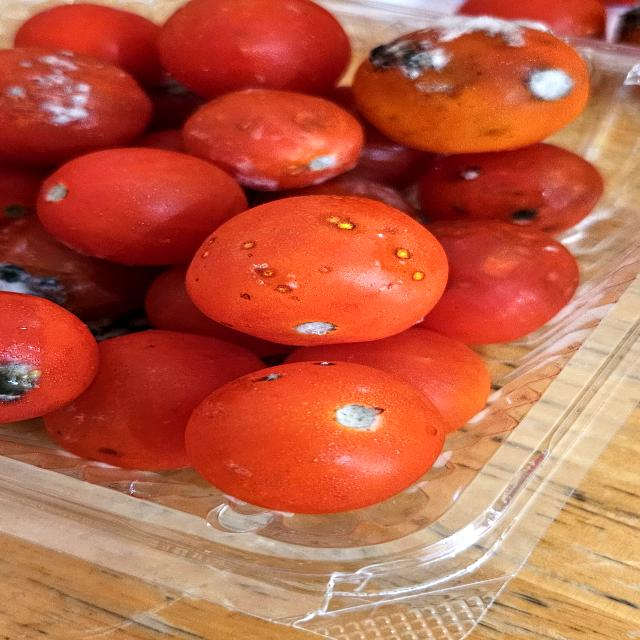rot_lvl1: (316, 212, 367, 235), (236, 239, 264, 254), (253, 265, 279, 279), (392, 246, 414, 262), (271, 281, 295, 294), (410, 270, 427, 284)
rot_lvl2: (401, 16, 528, 50), (366, 40, 458, 80), (521, 67, 579, 103), (330, 403, 384, 430), (293, 320, 340, 336), (252, 371, 287, 384), (458, 169, 483, 183), (312, 361, 339, 367)
